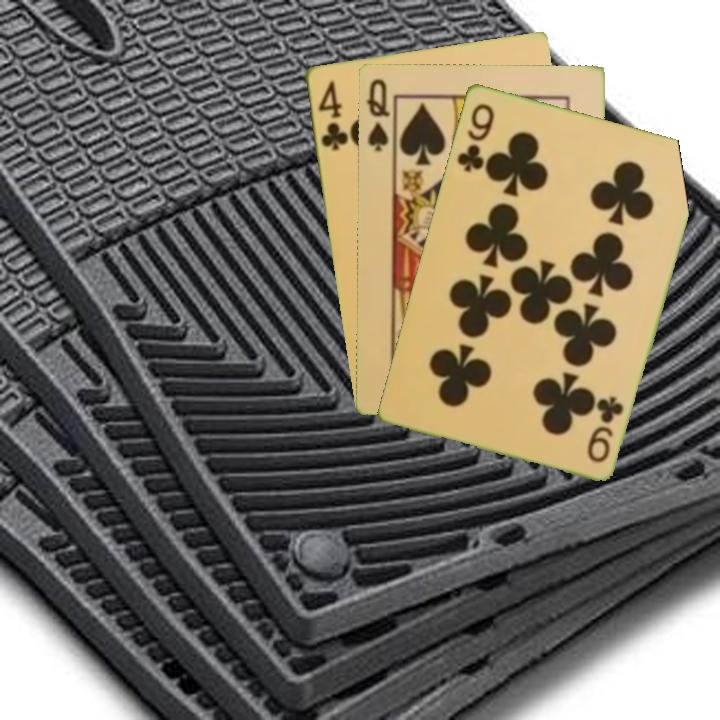4c: (314, 76, 351, 153)
9c: (453, 99, 497, 175), (583, 391, 626, 465)
Qs: (362, 75, 392, 154)
